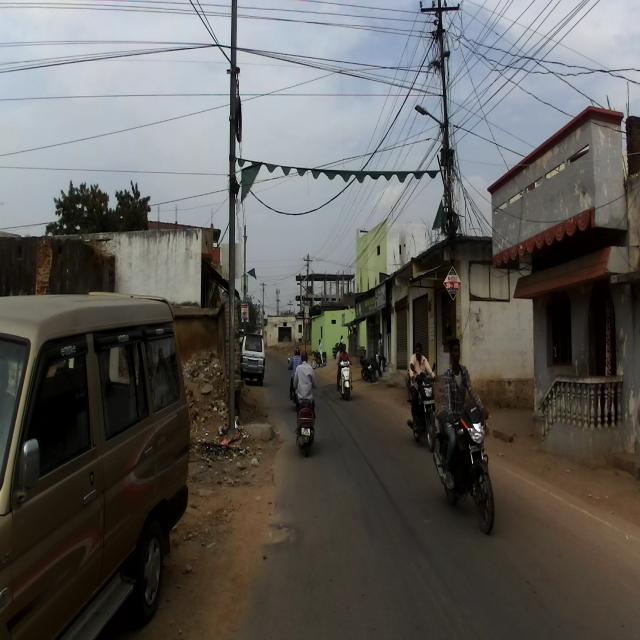car ahead at: (0, 285, 194, 640), (220, 0, 252, 445)
motorcycle ahead at: (436, 404, 505, 538), (293, 393, 318, 455)
